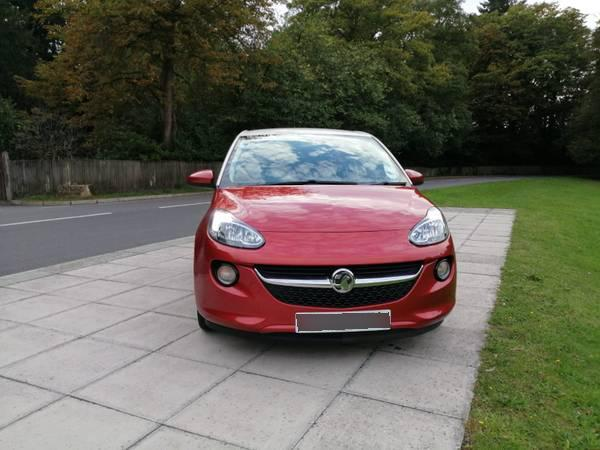Front_Bumper: (194, 222, 458, 335)
Front_Windshield: (217, 130, 411, 187)
Grille: (250, 258, 428, 307)
Hood: (213, 183, 436, 265)
Left_Headlight: (407, 207, 448, 248)
Left_Mirror: (404, 169, 425, 185)
Right_Headlight: (204, 205, 263, 249)
Right_Mirror: (188, 168, 215, 189)
